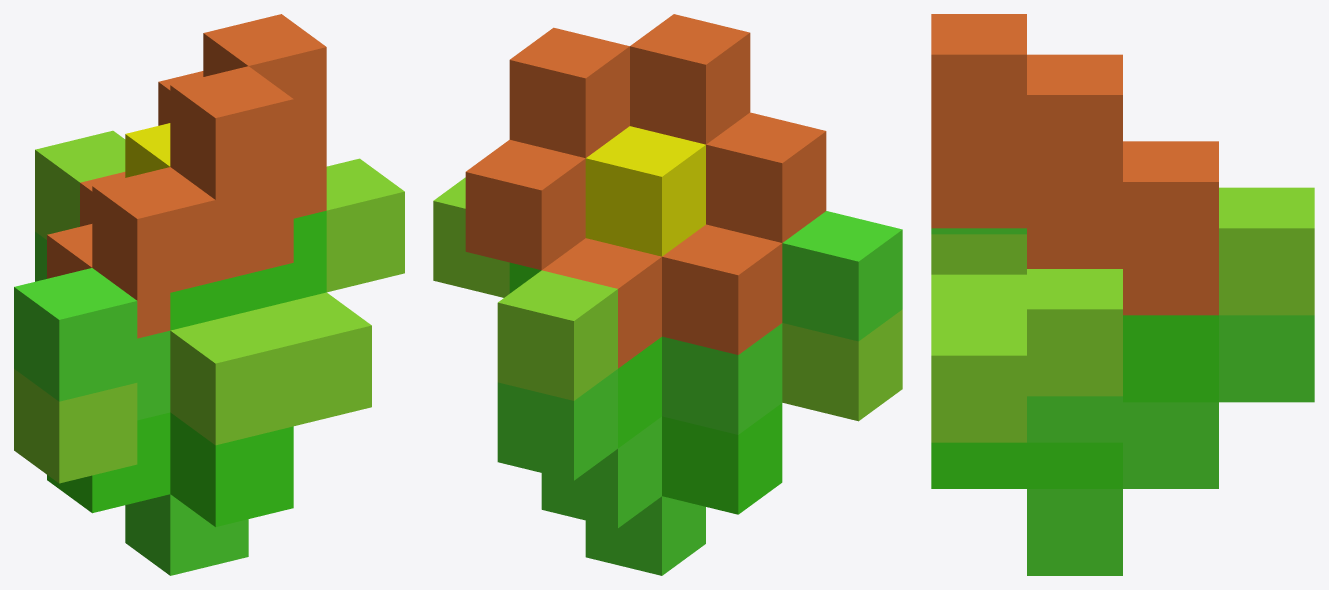
Rendered from tile-48.obj.
3 views of the same model, side by side, from view 1: azimuth 30°, elevation 25°; view 2: azimuth 150°, elevation 25°; view 3: azimuth 270°, elevation 25° (orthographic). The views are drawn at different scales.
Size of the model in its own units: 0.5 by 0.6 by 0.4.
Materials: 1 (1 with a texture image).
